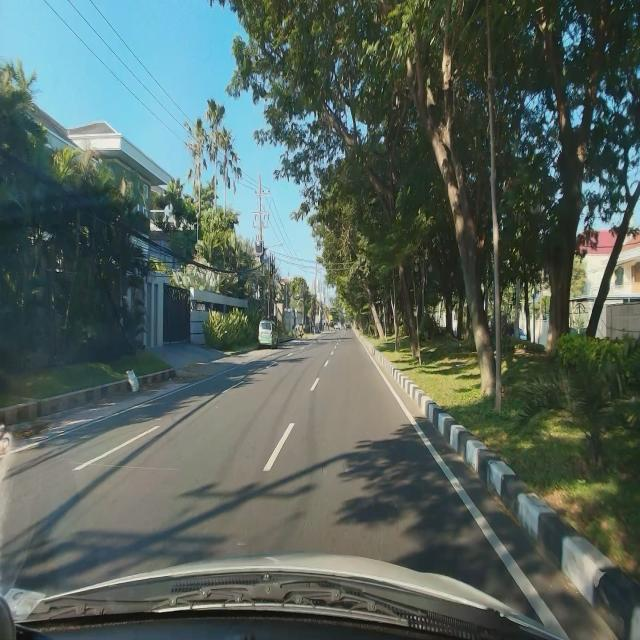car: (257, 319, 279, 351)
